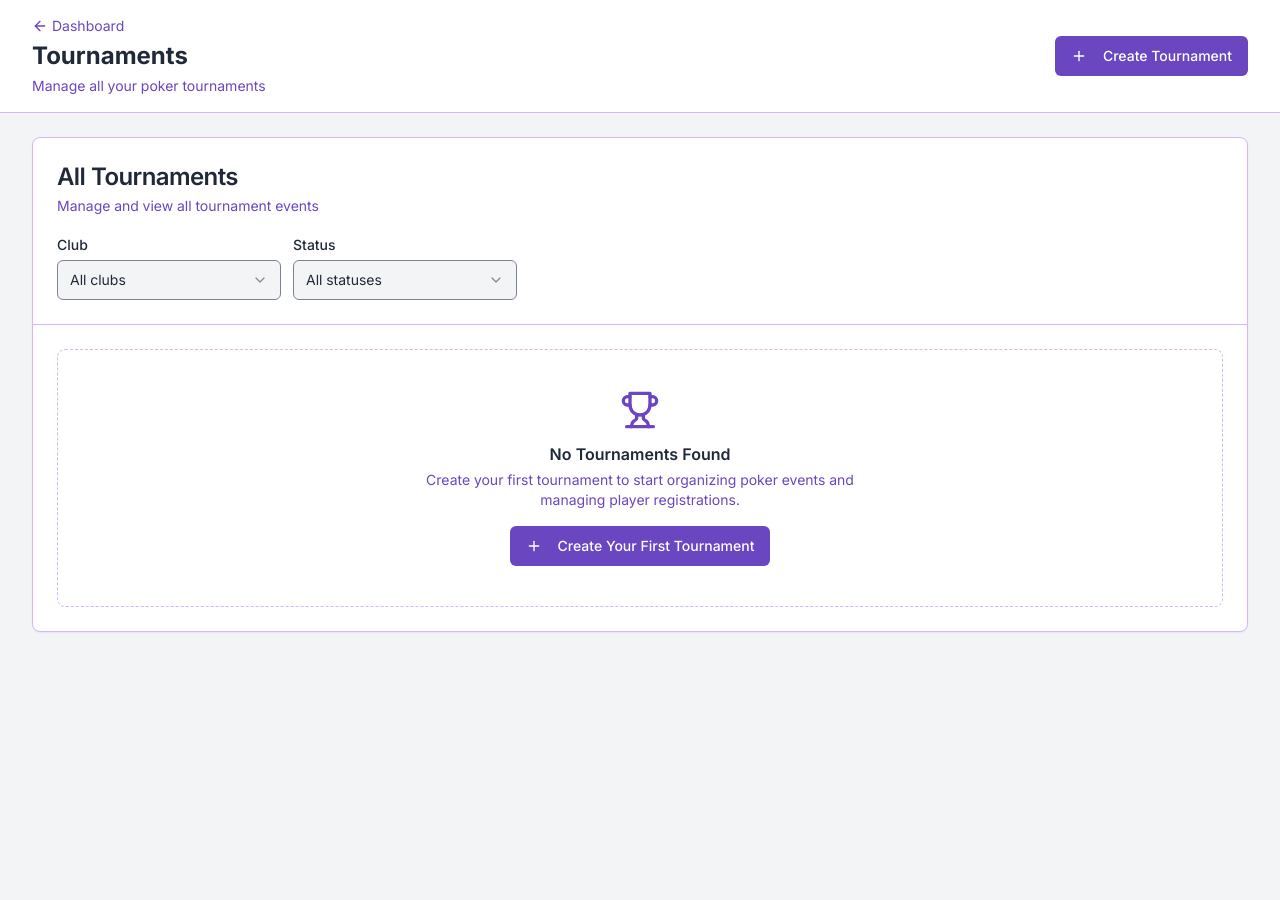
Test case: TournamentsListPage › invites the first tournament when there are none
Click the button with test id "create-first-tournament" at (640, 546), box [510,526,770,566]
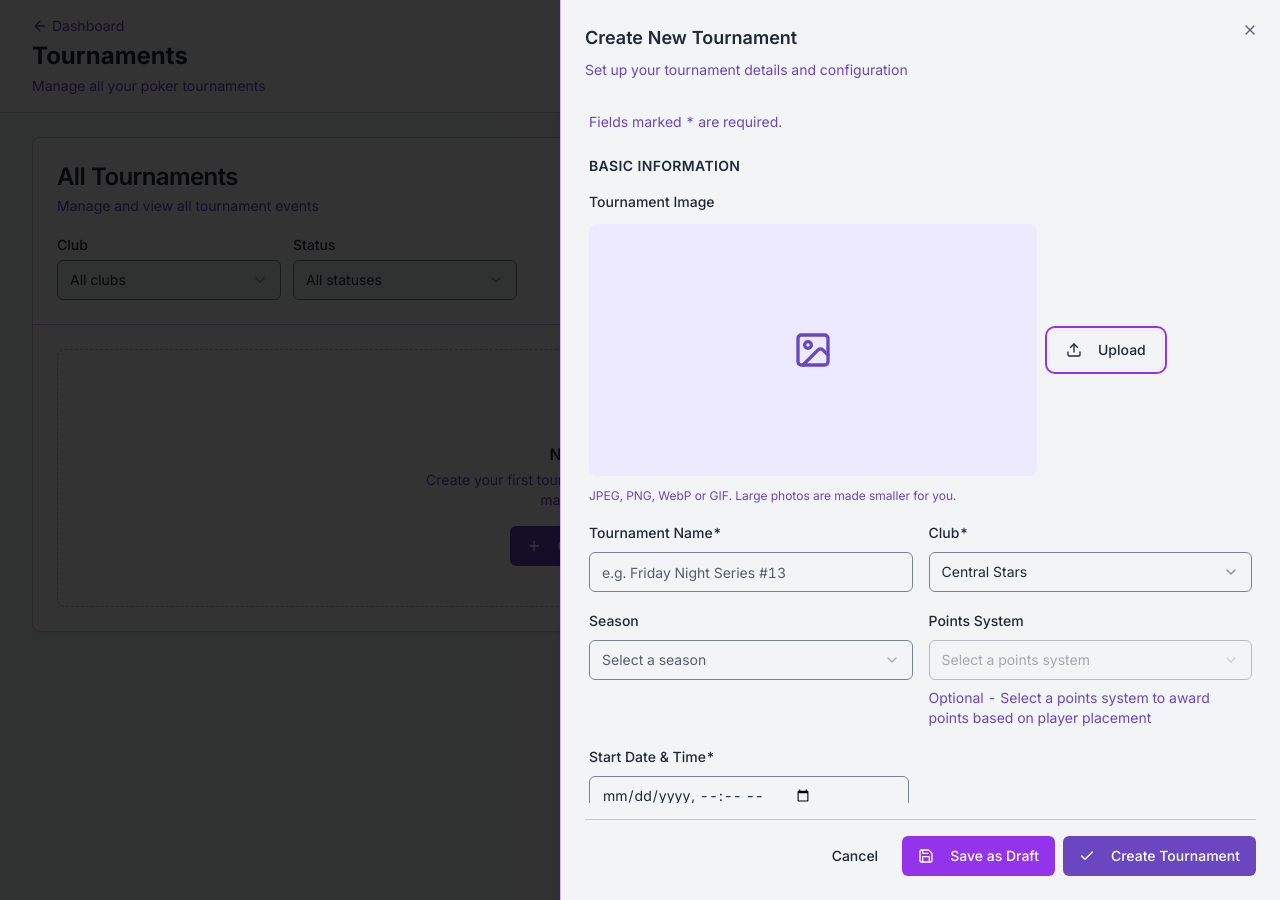
Expected: the dialog "Create New Tournament" is shown, [560,0,1279,899]
